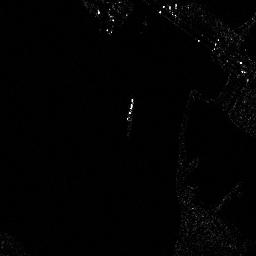ship: (124, 96, 135, 121)
